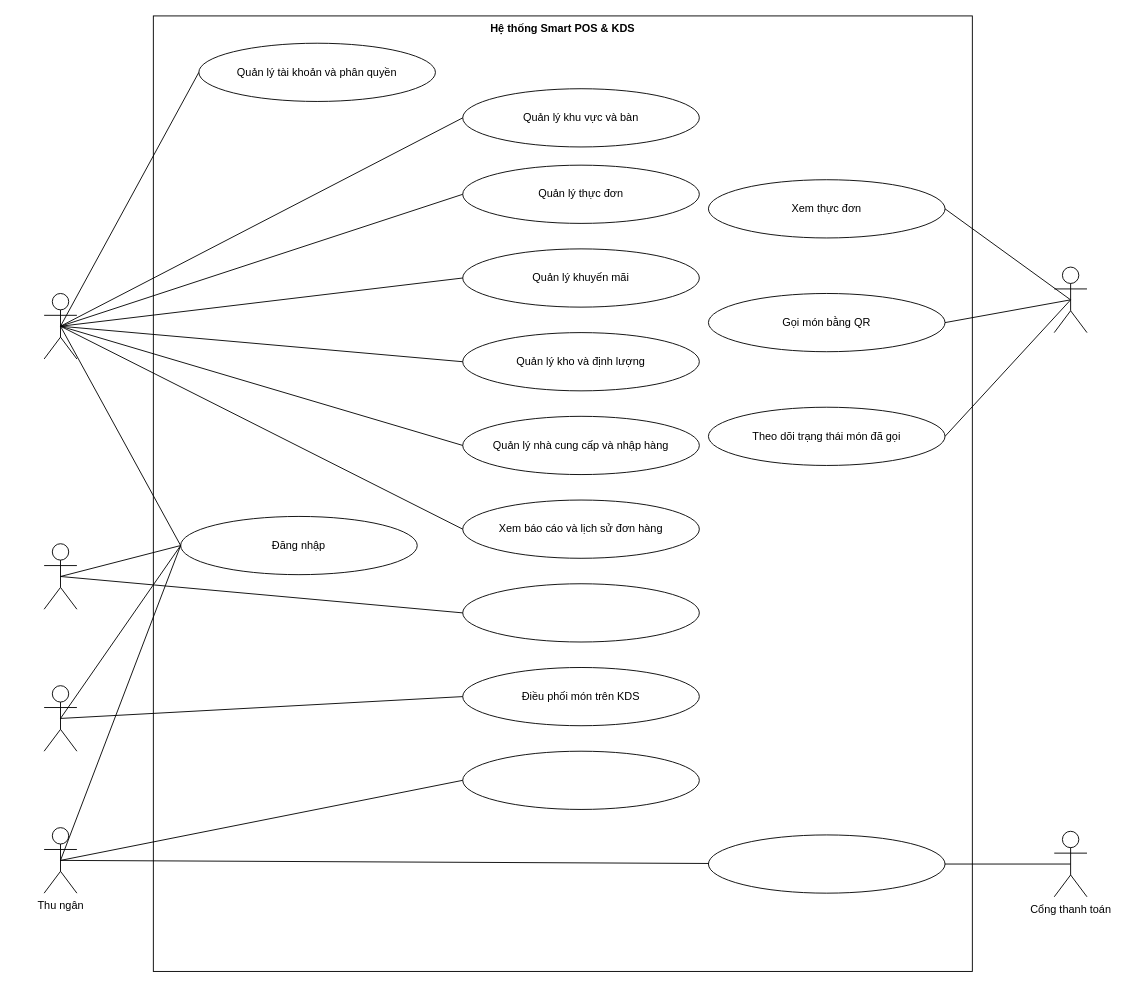
Some shapes in this 1127 by 987 pixel diagram are drawn without their labels. The centre of each missing label's shape, as x and y in pixels:
"Khách hàng" belongs at [1070,299].
"Nhân viên bếp" belongs at [60,718].
"Nhân viên phục vụ" belongs at [60,576].
"Quản lý" belongs at [60,326].
"Quản lý khách hàng thành viên" belongs at [580,779].
"Thanh toán và xuất hóa đơn" belongs at [826,863].
"Xử lý đơn hàng tại POS" belongs at [580,612].
